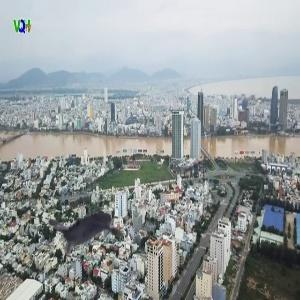drone: (28, 169, 152, 293)
